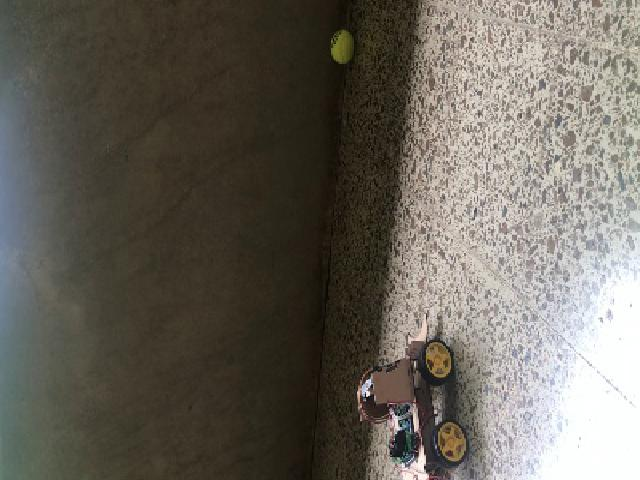Ball: (328, 29, 354, 62)
Robot: (357, 313, 469, 479)
